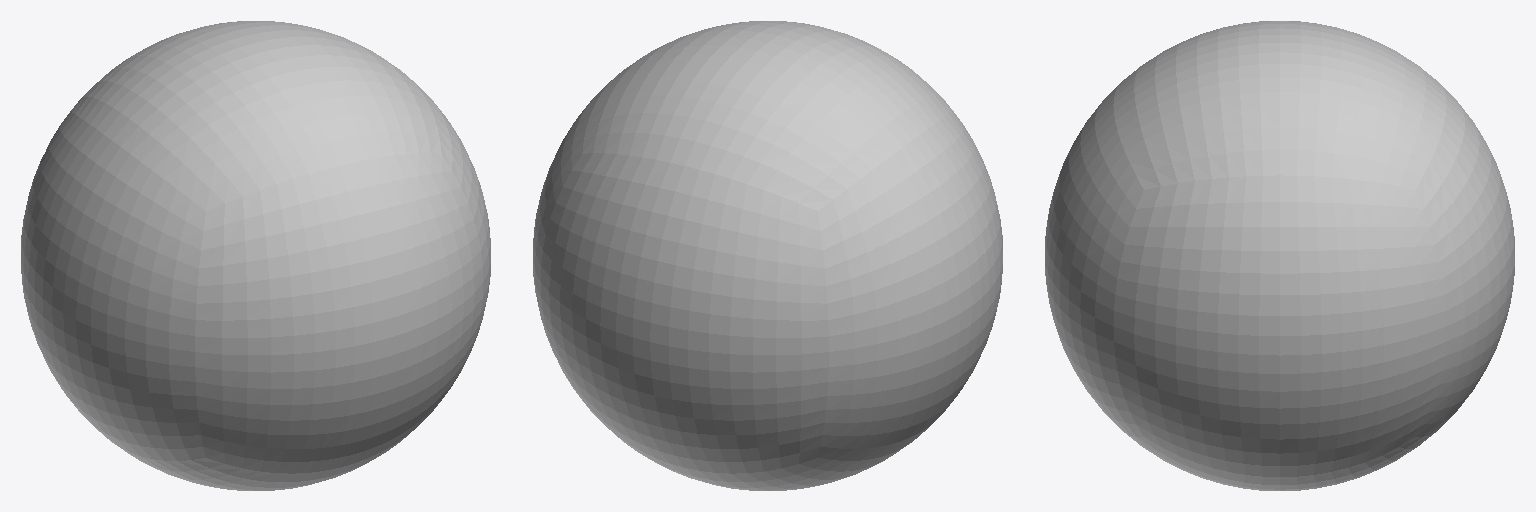
File: FFSphereRCres1.obj
3 views of the same model, side by side, from view 1: azimuth 30°, elevation 25°; view 2: azimuth 150°, elevation 25°; view 3: azimuth 270°, elevation 25° (orthographic).
Parts seen in each view (by area): view 1: Roundcube.002; view 2: Roundcube.002; view 3: Roundcube.002.
Part boxes in pixels (x1,y1,x2,y2): Roundcube.002: (21,21,490,490); Roundcube.002: (533,21,1002,490); Roundcube.002: (1045,21,1514,490).
Bounding box in the file's own units: 1 × 1 × 1.